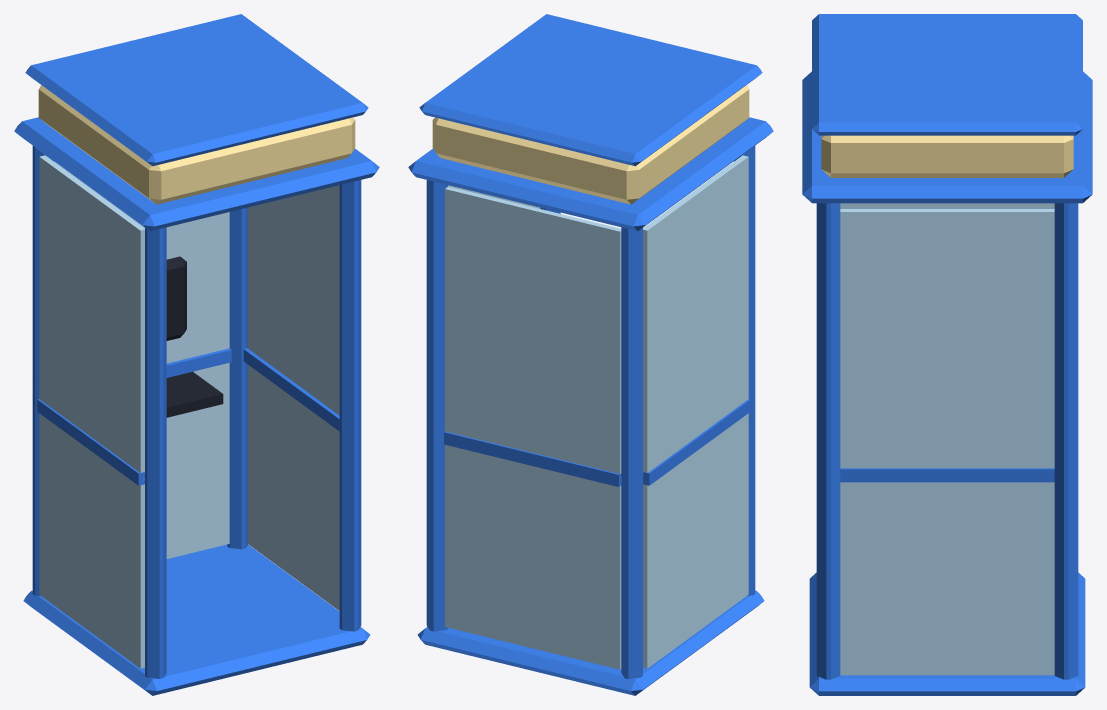
Rendered from phone-booth.glb.
3 views of the same model, side by side, from view 1: azimuth 30°, elevation 25°; view 2: azimuth 150°, elevation 25°; view 3: azimuth 270°, elevation 25° (orthographic). The views are drawn at different scales.
Visible parts, largest first — view 1: phone-booth; view 2: phone-booth; view 3: phone-booth.
Part boxes in pixels (left/top/right/bottom): phone-booth: left=14, top=14, right=379, bottom=695; phone-booth: left=408, top=14, right=773, bottom=695; phone-booth: left=802, top=14, right=1092, bottom=695.
Size of the model in its own units: 1.22 by 2.66 by 1.22.
